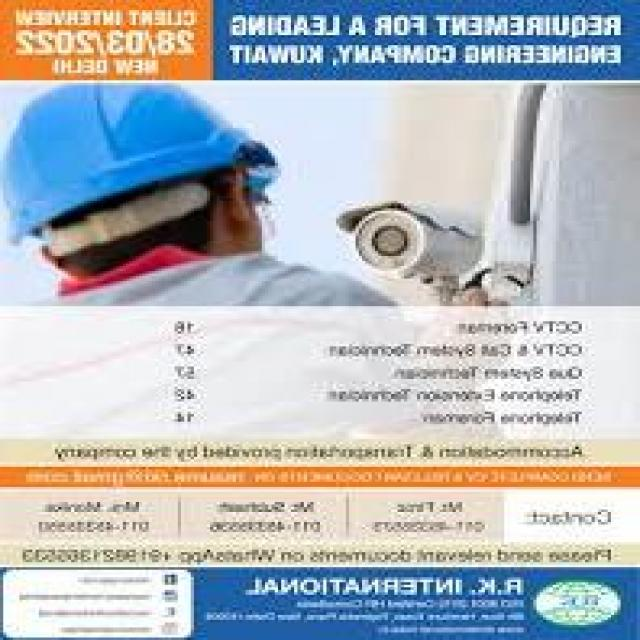Safety-Helmet: (0, 80, 288, 238)
